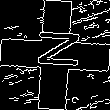N_W: (29, 34, 81, 76)
